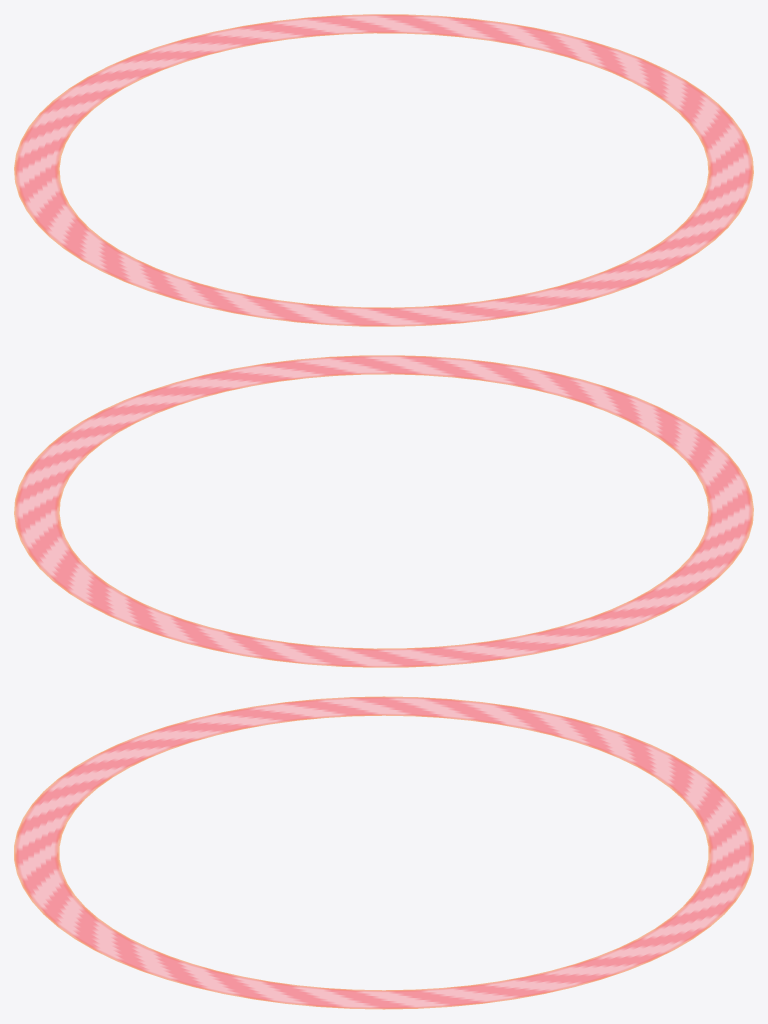
File: fx_mring3_warn.glb
3 views of the same model, one above another, from view 1: azimuth 30°, elevation 25°; view 2: azimuth 150°, elevation 25°; view 3: azimuth 270°, elevation 25° (orthographic).
Parts seen in each view (by area): view 1: fx_warn; view 2: fx_warn; view 3: fx_warn.
Boxes of the visible parts, x1=… form: fx_warn: x1=14, y1=14, x2=753, y2=326; fx_warn: x1=14, y1=355, x2=753, y2=667; fx_warn: x1=14, y1=696, x2=753, y2=1009.
Size of the model in its own units: 32.4 by 0 by 32.37.
1 material, 1 textured.
